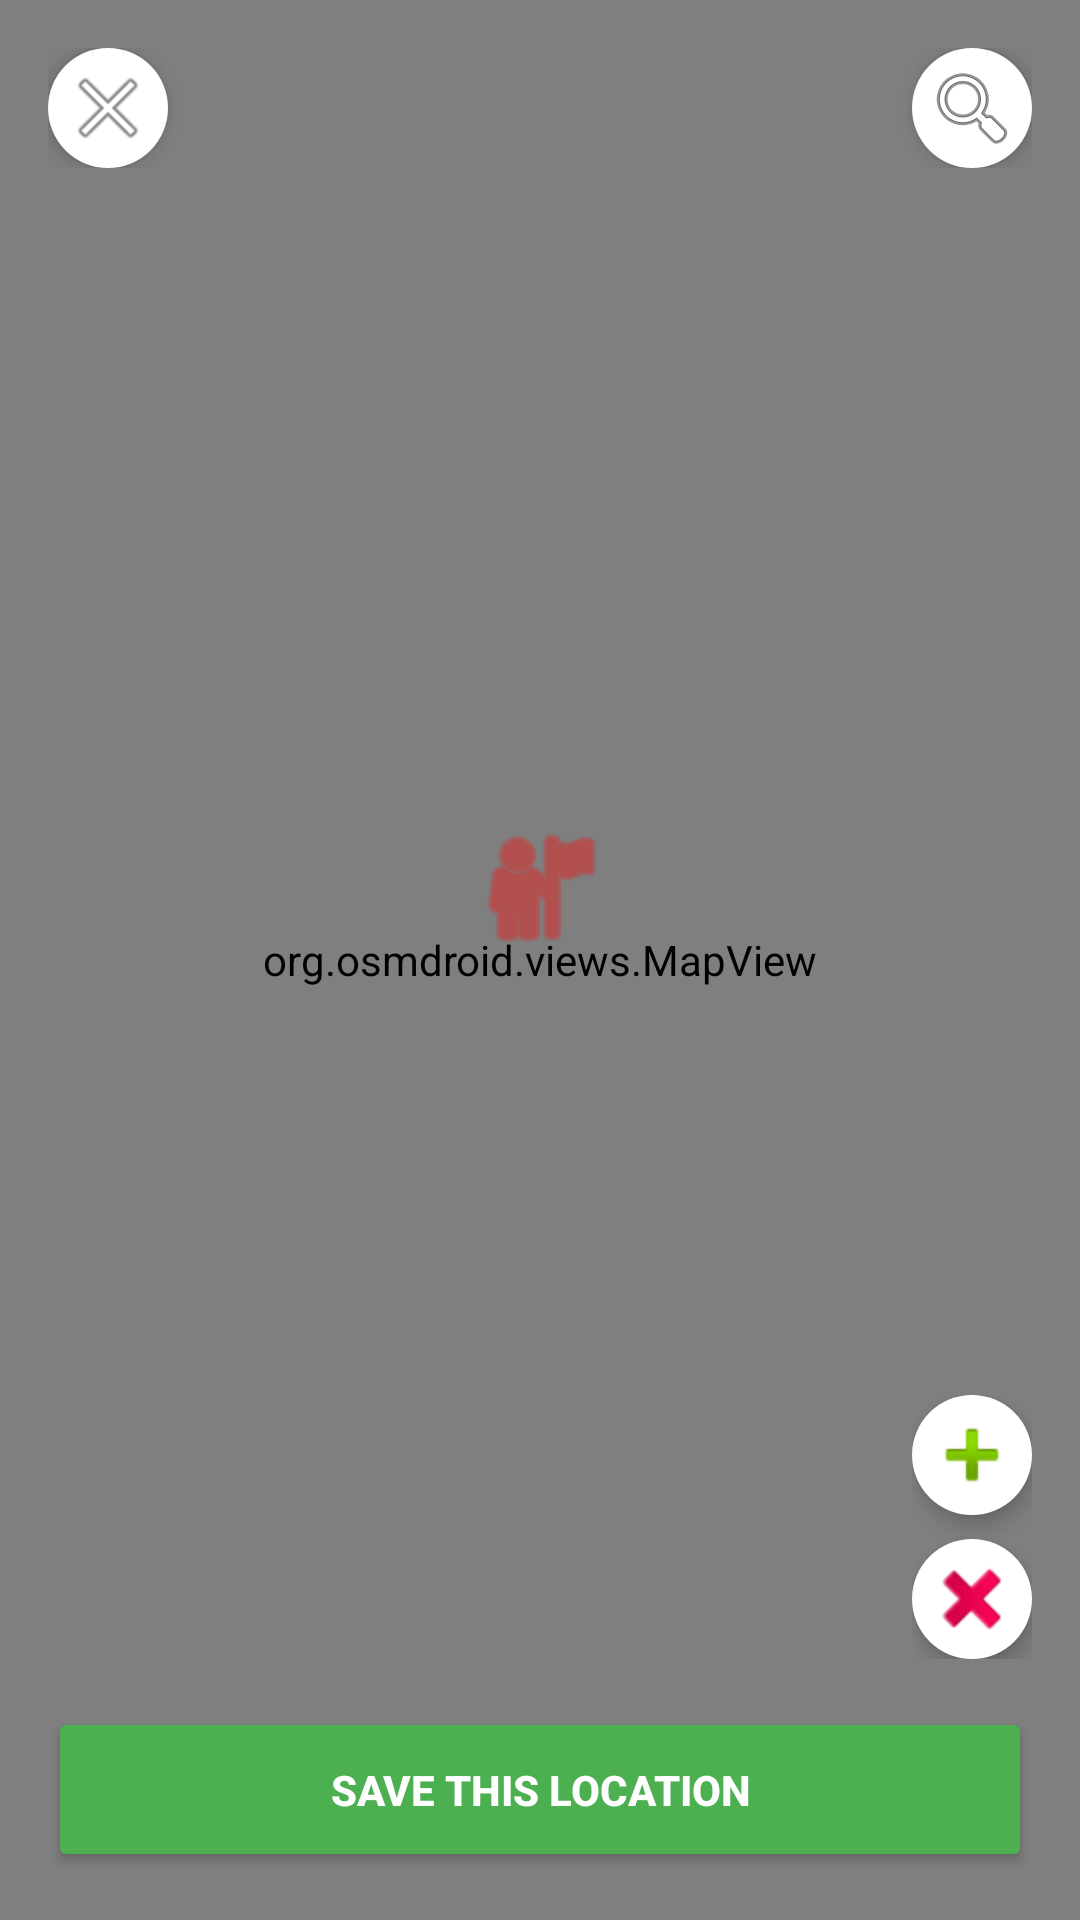

Icons on this 1080px×1920px Android screen, each with the point to tap as (x,y):
Close Map: (108,108)
Search Location: (972,108)
Zoom In: (972,1455)
